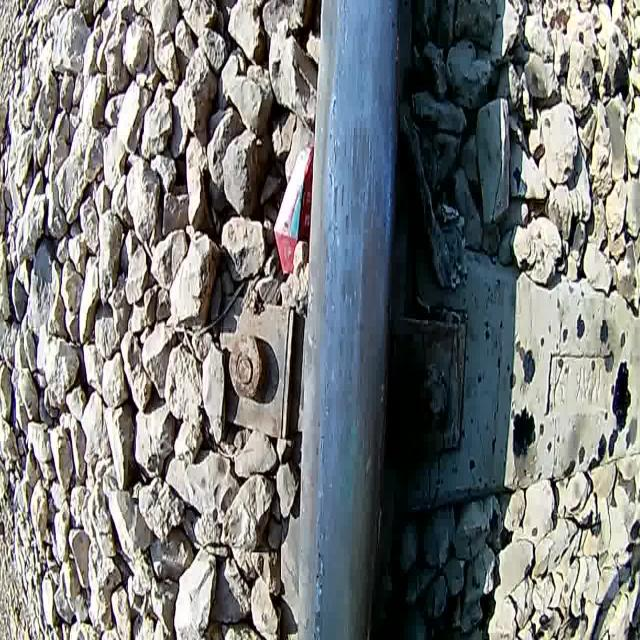Flakings: (308, 58, 342, 640)
Squats: (334, 114, 389, 244), (333, 255, 366, 317)
